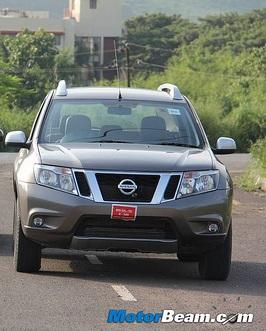License-Plate: (111, 197, 138, 225)
